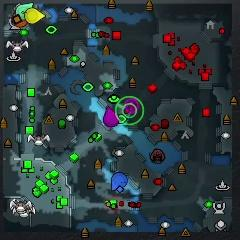Other: (124, 98, 139, 114)
p1: (112, 172, 128, 191)
p2: (15, 3, 33, 21)
p3: (103, 106, 120, 128)
p4: (26, 8, 45, 23)
p5: (13, 13, 28, 27)
